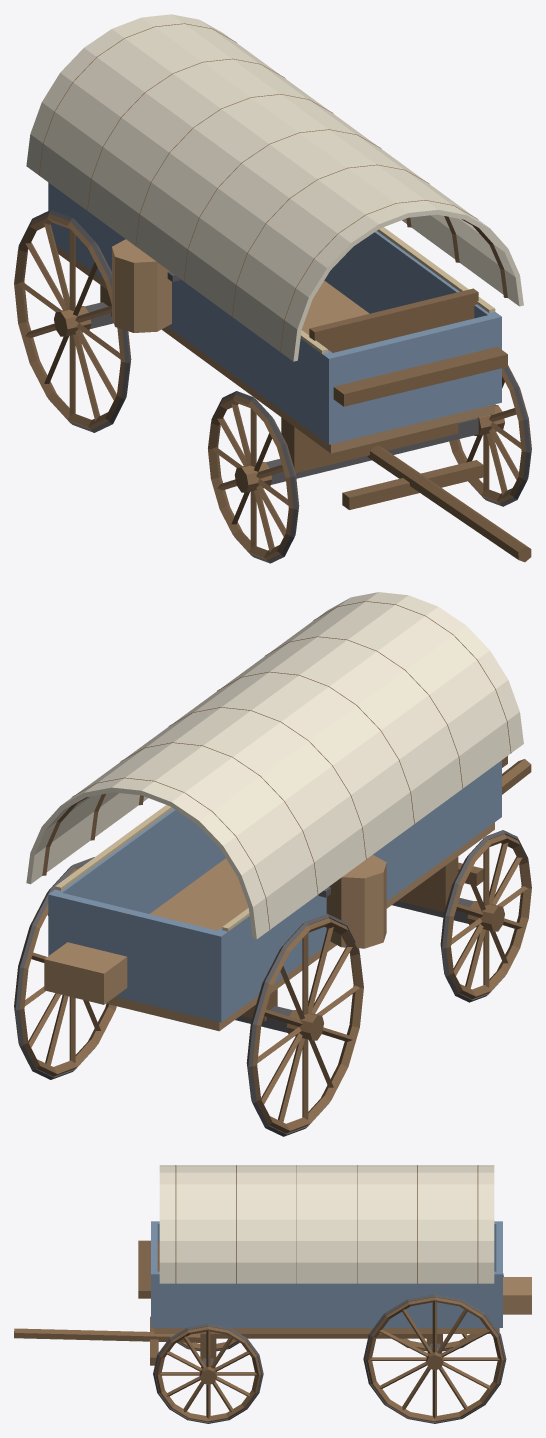
File: SM_Covered_Wagon.glb
3 renders of one model, top to bottom at view 1: azimuth 30°, elevation 25°; view 2: azimuth 150°, elevation 25°; view 3: azimuth 270°, elevation 25°, orthographic. The views are drawn at different scales.
Parts seen in each view (by area): view 1: SM_Covered_Wagon; view 2: SM_Covered_Wagon; view 3: SM_Covered_Wagon.
Boxes of the visible parts, left/top/right/bottom form: SM_Covered_Wagon: left=14, top=14, right=531, bottom=563; SM_Covered_Wagon: left=14, top=592, right=531, bottom=1136; SM_Covered_Wagon: left=14, top=1165, right=531, bottom=1423.
Bounding box in the file's own units: 1.76 × 2.21 × 4.8.
